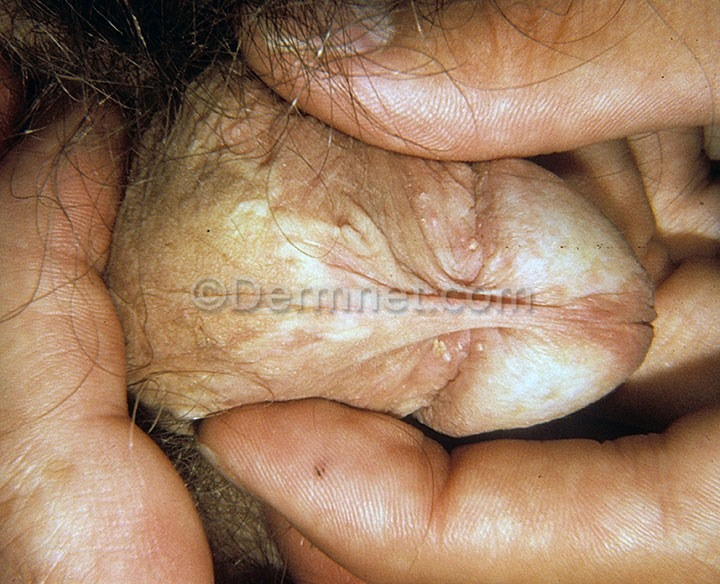Psoriasis: (408, 158, 530, 411)
